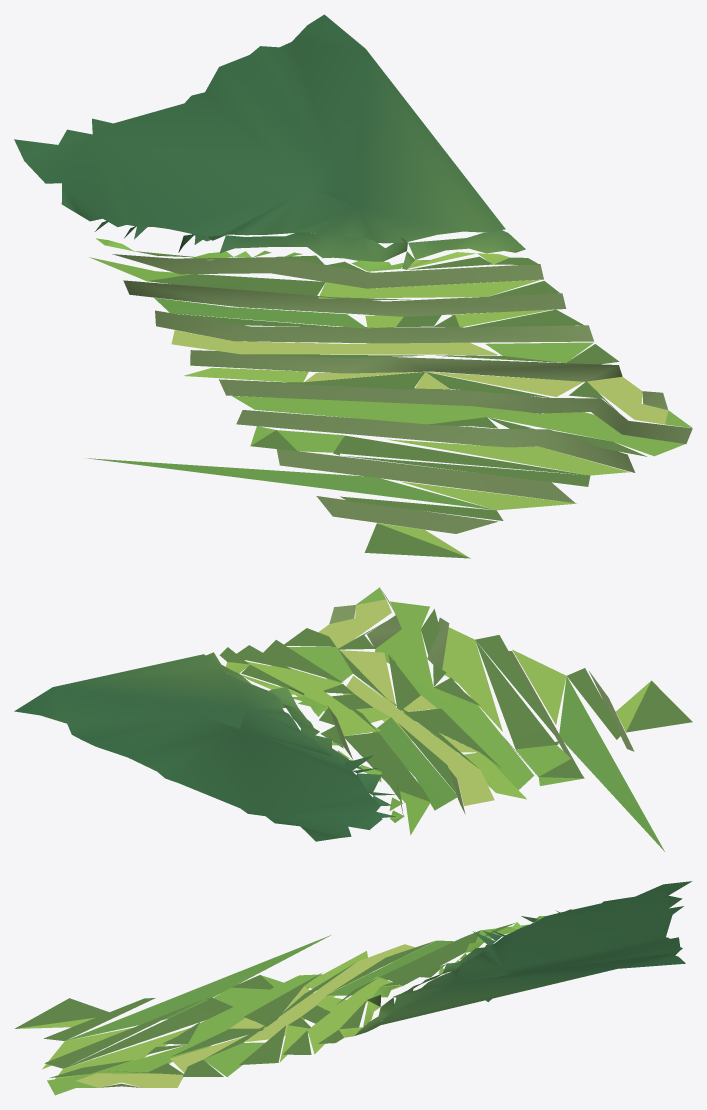
Rendered from payo_land_xm5_y7_lod2.glb.
3 views of the same model, one above another, from view 1: azimuth 30°, elevation 25°; view 2: azimuth 150°, elevation 25°; view 3: azimuth 270°, elevation 25° (orthographic). The views are drawn at different scales.
Visible parts, largest first — view 1: payo_land_xm5_y7; view 2: payo_land_xm5_y7; view 3: payo_land_xm5_y7.
Part boxes in pixels (x1=…): payo_land_xm5_y7: x1=14, y1=14, x2=692, y2=558; payo_land_xm5_y7: x1=14, y1=587, x2=692, y2=851; payo_land_xm5_y7: x1=14, y1=881, x2=692, y2=1095.
Bounding box in the file's own units: 185 × 76.21 × 279.
